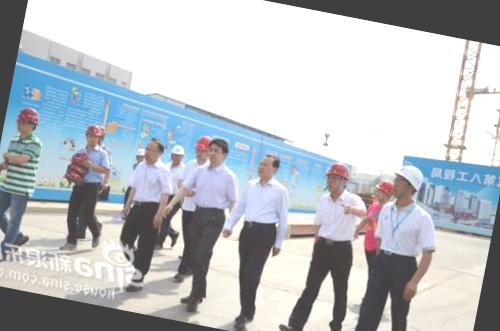no_helmet: (254, 148, 286, 184), (204, 134, 232, 170), (140, 134, 168, 166)
